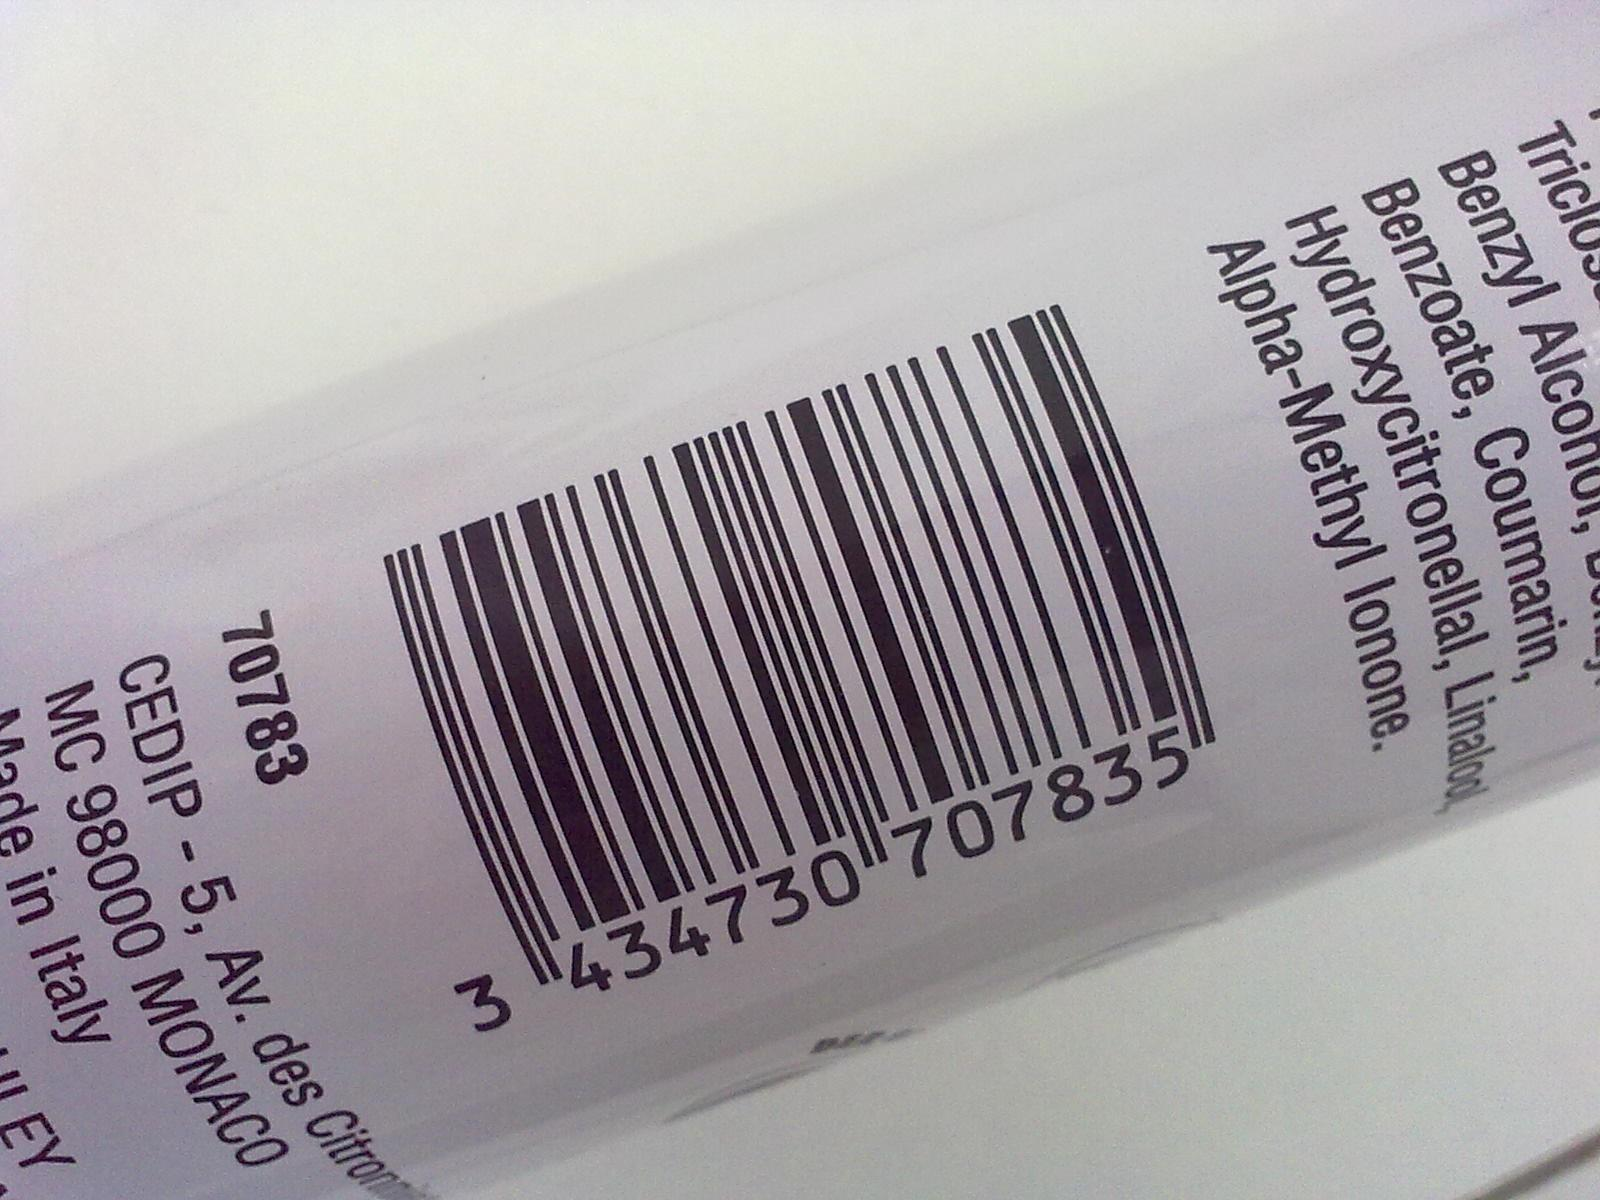Barcode: (375, 292, 1221, 1063)
